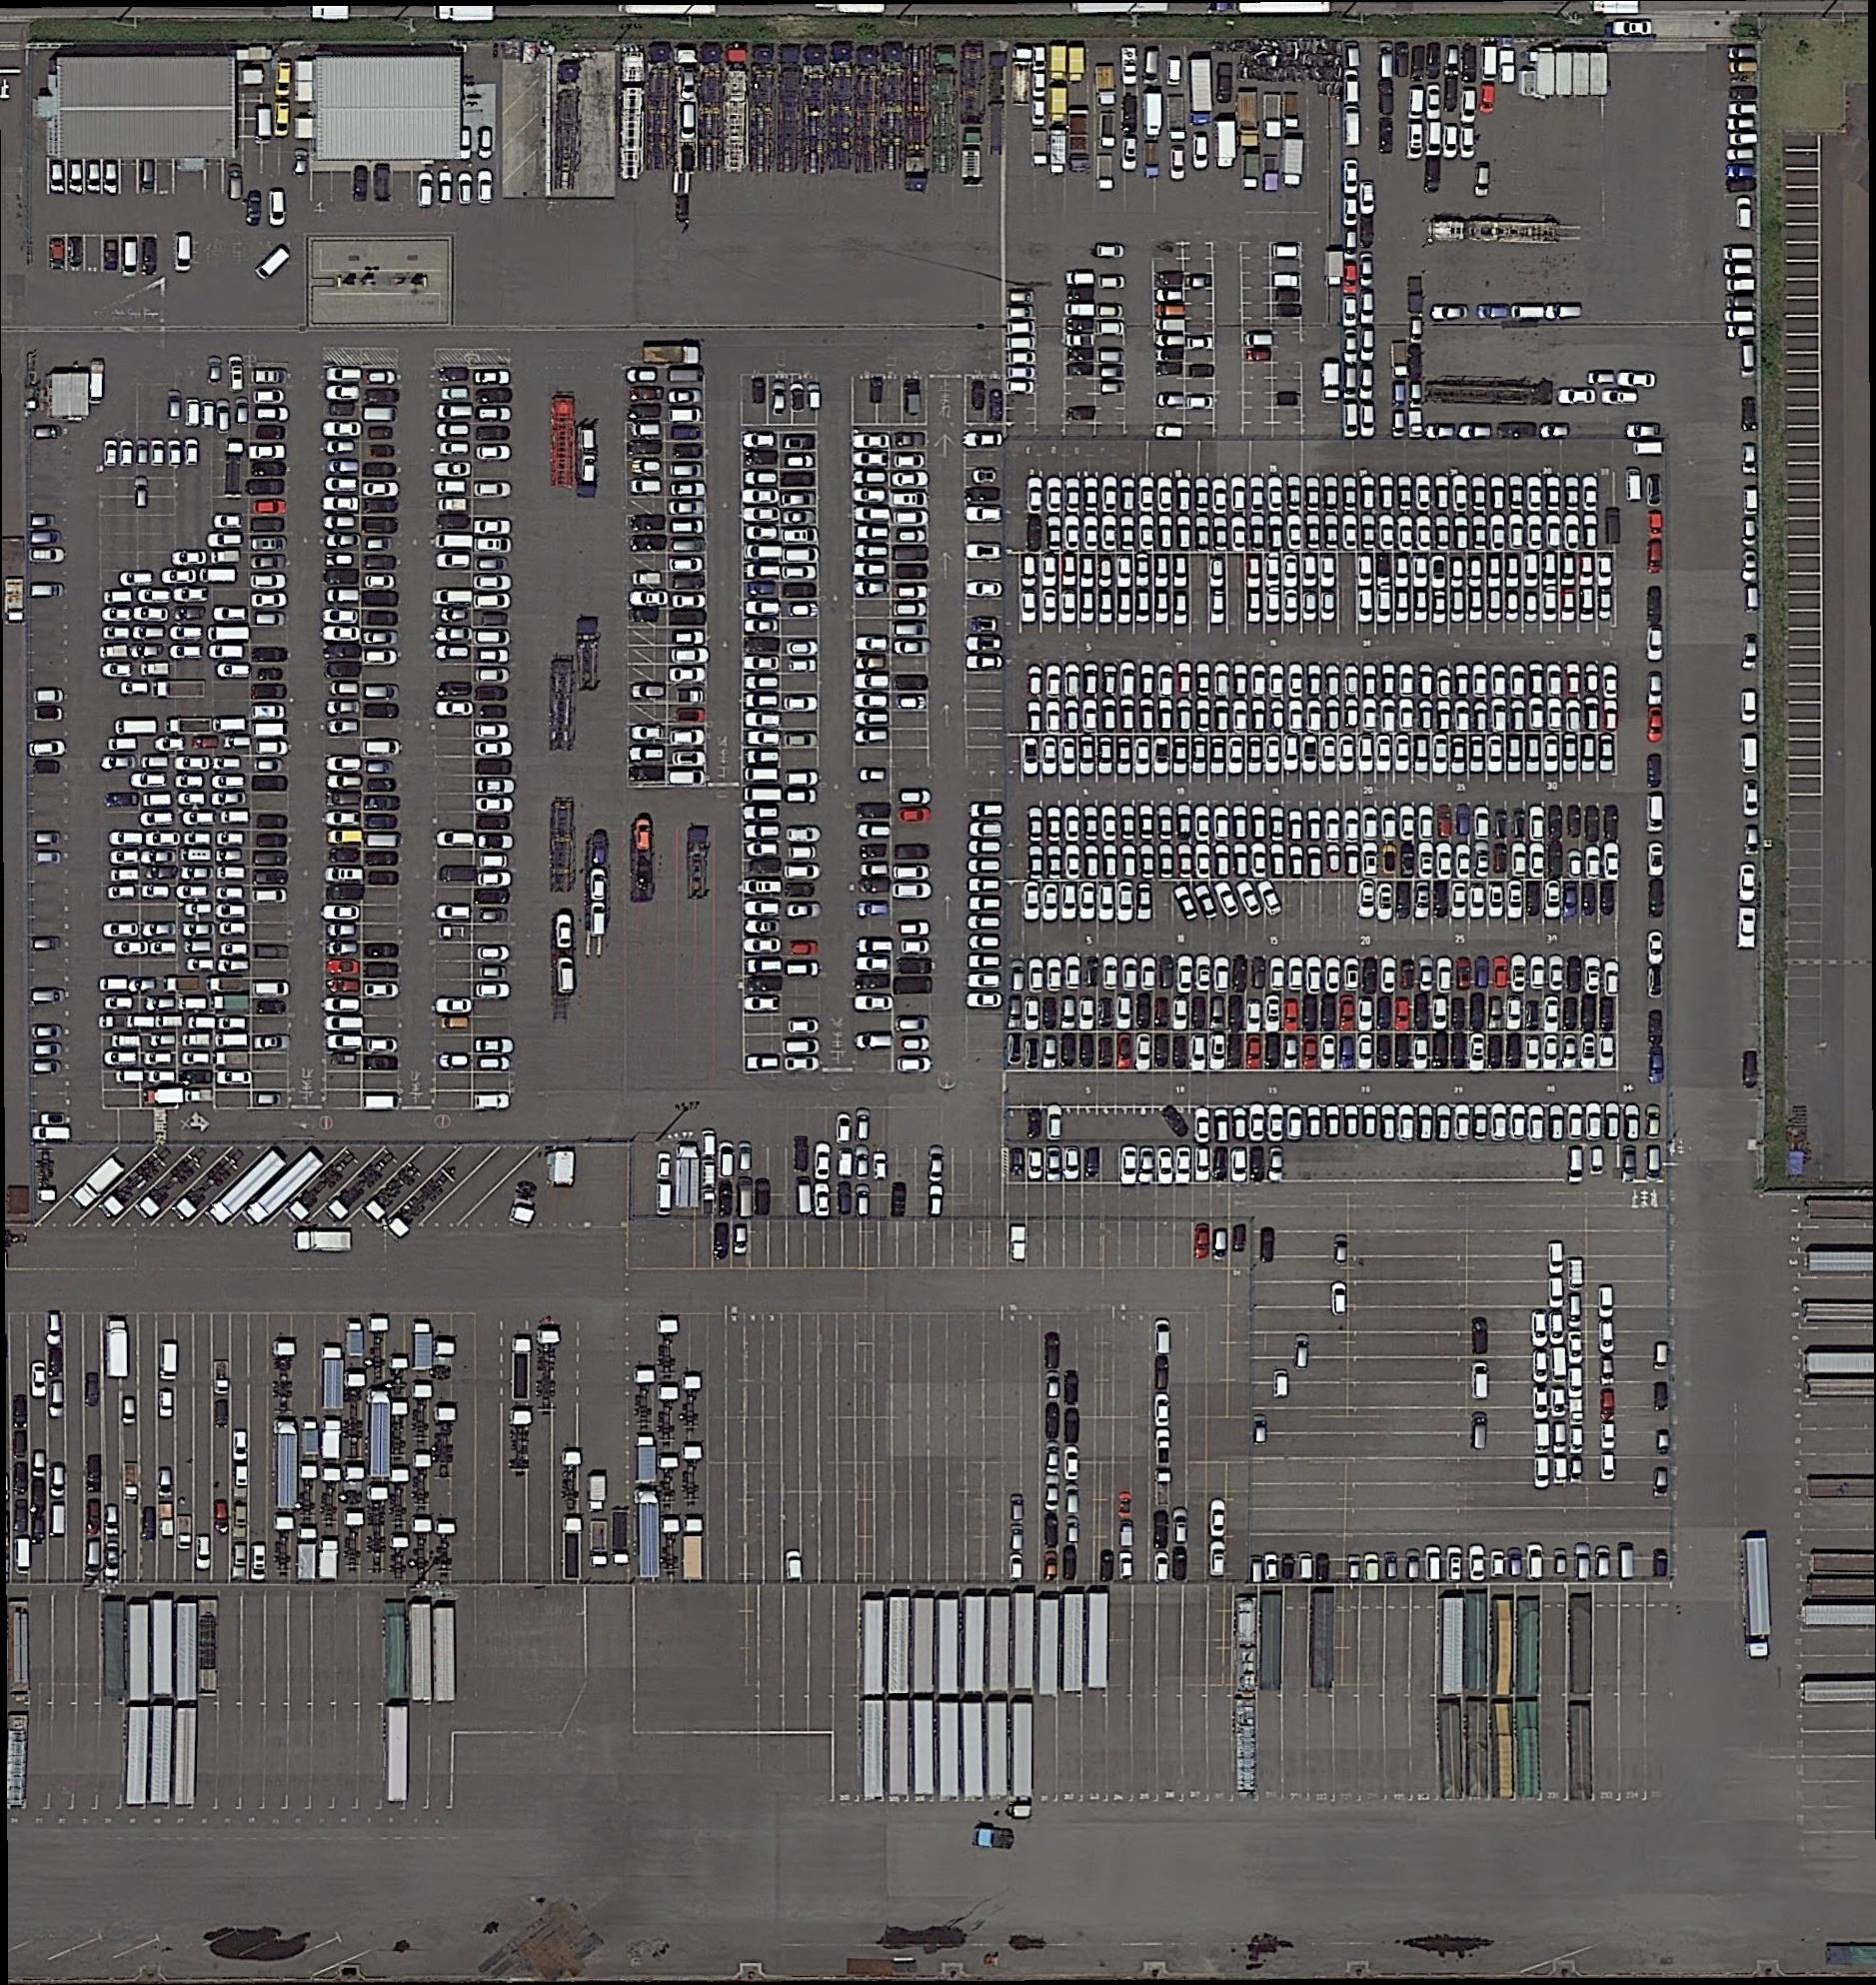large vehicle: (242, 1146, 328, 1229), (171, 1144, 256, 1227), (205, 1146, 289, 1227), (280, 1146, 365, 1227), (383, 1162, 462, 1245), (324, 1144, 404, 1227), (99, 1146, 176, 1223), (134, 1146, 208, 1225), (360, 1156, 430, 1229), (901, 46, 933, 197), (797, 42, 829, 175), (617, 42, 647, 182), (823, 42, 855, 173), (1430, 215, 1560, 247), (552, 62, 584, 192), (1740, 1537, 1772, 1662), (850, 42, 880, 175), (721, 42, 751, 175), (873, 44, 903, 175), (746, 44, 776, 175), (774, 42, 802, 175), (645, 42, 674, 175), (672, 42, 700, 173), (71, 1151, 127, 1213), (931, 48, 957, 178), (264, 1419, 300, 1513), (698, 42, 723, 175), (123, 1599, 153, 1706), (1566, 1592, 1596, 1698), (1566, 1698, 1596, 1802), (545, 797, 577, 894), (857, 1599, 887, 1699), (984, 1698, 1012, 1803), (547, 656, 577, 755), (1515, 1597, 1543, 1701), (1435, 1698, 1463, 1802), (1308, 1592, 1336, 1696), (381, 1705, 409, 1807), (933, 1698, 959, 1805), (123, 1706, 152, 1807), (99, 1599, 125, 1705), (631, 1486, 659, 1585), (1463, 1698, 1490, 1802), (1437, 1595, 1463, 1699), (910, 1595, 936, 1699), (986, 1595, 1012, 1699), (146, 1705, 173, 1809), (173, 1706, 199, 1810), (173, 1601, 199, 1705), (2, 1714, 30, 1810), (1488, 1699, 1515, 1802), (1515, 1699, 1541, 1802), (885, 1595, 912, 1698), (547, 395, 575, 490), (1488, 1599, 1515, 1699), (1231, 1698, 1257, 1798), (1463, 1592, 1488, 1699), (986, 51, 1010, 159), (409, 1601, 434, 1708), (432, 1599, 457, 1706), (862, 1698, 887, 1803), (910, 1698, 934, 1803), (1010, 1698, 1035, 1803), (383, 1601, 409, 1699), (7, 1599, 32, 1705), (363, 1481, 391, 1572), (264, 1338, 296, 1419), (936, 1595, 961, 1699), (961, 1595, 986, 1699), (959, 1699, 984, 1803), (1234, 1595, 1261, 1692), (1259, 1594, 1284, 1696), (152, 1597, 176, 1699), (365, 1389, 391, 1483), (887, 1698, 910, 1803), (536, 1324, 562, 1416), (342, 1372, 368, 1461), (1012, 1590, 1035, 1692), (197, 1599, 220, 1699), (1037, 1599, 1060, 1698), (1088, 1594, 1111, 1692), (575, 617, 603, 696), (961, 42, 987, 125), (1063, 1594, 1084, 1696), (506, 1178, 543, 1232), (1185, 56, 1213, 127), (319, 1343, 347, 1414), (684, 827, 711, 901), (430, 1400, 455, 1479), (272, 1513, 298, 1585), (316, 1461, 342, 1532), (406, 1516, 432, 1583), (681, 1514, 705, 1585), (368, 1315, 391, 1389), (430, 1516, 455, 1585), (508, 1410, 532, 1479), (339, 1509, 365, 1572), (679, 1442, 703, 1509), (656, 1315, 681, 1382), (104, 1319, 130, 1380), (291, 1230, 353, 1257), (559, 1514, 582, 1585), (510, 1334, 532, 1405), (1009, 48, 1035, 108), (557, 1446, 580, 1514), (411, 1382, 434, 1451), (656, 1382, 679, 1449), (409, 1449, 432, 1516), (1067, 109, 1090, 175), (681, 1370, 703, 1435), (633, 1363, 654, 1433), (293, 1527, 317, 1585), (659, 1511, 679, 1585), (656, 1451, 679, 1511), (298, 1461, 319, 1525), (1282, 138, 1306, 190), (633, 1431, 658, 1484), (390, 1401, 409, 1468), (390, 1467, 409, 1534), (961, 132, 984, 189), (409, 1319, 432, 1373), (1238, 92, 1259, 148), (319, 1416, 344, 1463), (340, 1461, 365, 1509), (1213, 122, 1236, 173), (386, 1534, 409, 1585), (610, 1509, 629, 1567), (316, 1541, 340, 1585), (587, 1520, 608, 1571), (1164, 95, 1187, 141), (432, 1340, 455, 1386), (1139, 93, 1162, 138), (1262, 93, 1284, 139), (1093, 65, 1116, 108), (1047, 85, 1070, 127), (298, 1417, 321, 1458), (157, 1340, 178, 1382), (1047, 130, 1067, 176), (1118, 93, 1139, 134), (1047, 44, 1068, 85), (344, 1319, 365, 1359), (1239, 153, 1261, 192), (585, 1474, 607, 1513), (391, 1356, 409, 1401), (1118, 46, 1137, 86), (1067, 44, 1086, 85), (212, 1357, 233, 1394), (1030, 129, 1049, 167), (1097, 152, 1114, 192), (1217, 62, 1234, 102), (1262, 155, 1280, 194), (1141, 143, 1160, 178), (1097, 113, 1116, 148), (155, 1389, 176, 1421), (1284, 92, 1299, 129)
small vehicle: (254, 243, 293, 284), (642, 346, 700, 367), (1215, 880, 1243, 920), (1236, 880, 1264, 920), (150, 680, 208, 700), (1172, 883, 1201, 922), (1194, 881, 1220, 922), (1257, 880, 1284, 918), (473, 1035, 517, 1058), (118, 234, 139, 280), (205, 624, 250, 645), (742, 973, 785, 996), (1132, 735, 1155, 777), (585, 903, 610, 941), (435, 587, 474, 612), (1737, 908, 1758, 952), (1617, 370, 1661, 391), (628, 742, 668, 765), (1737, 864, 1760, 904), (852, 504, 892, 527), (1596, 1033, 1620, 1070), (319, 624, 361, 645), (323, 1014, 365, 1035), (1342, 108, 1363, 150), (1555, 386, 1597, 407), (83, 1539, 104, 1581), (890, 880, 933, 901), (963, 430, 1005, 451), (1023, 880, 1044, 922), (1116, 881, 1137, 924), (1208, 735, 1229, 777), (668, 665, 707, 688), (435, 866, 474, 888), (434, 624, 473, 647), (437, 827, 476, 850), (629, 532, 668, 555), (629, 682, 668, 705), (1007, 1225, 1030, 1264), (966, 989, 1005, 1012), (903, 375, 926, 414), (1243, 1033, 1266, 1072), (88, 358, 106, 407), (164, 717, 213, 735), (474, 756, 515, 777), (434, 532, 474, 554), (628, 763, 668, 784), (473, 571, 513, 592), (473, 517, 513, 538), (323, 421, 363, 442), (361, 737, 402, 758), (26, 1359, 48, 1400), (1596, 1319, 1617, 1359), (46, 1461, 67, 1502), (85, 1500, 106, 1541), (175, 1513, 196, 1553), (892, 862, 933, 883), (892, 975, 933, 996), (742, 728, 783, 749), (742, 936, 783, 957), (742, 955, 783, 977), (779, 524, 820, 545), (1543, 880, 1564, 920), (1282, 1031, 1303, 1072), (1058, 737, 1079, 777), (1097, 883, 1118, 924), (1356, 880, 1377, 920), (1597, 733, 1619, 774), (585, 867, 608, 904), (324, 659, 361, 682), (361, 645, 398, 668), (1206, 996, 1229, 1033), (113, 719, 160, 737), (1582, 474, 1601, 517), (1208, 1539, 1227, 1581), (1583, 954, 1603, 996), (742, 541, 781, 562), (1617, 1541, 1636, 1583), (668, 534, 707, 555), (668, 515, 707, 536), (212, 1052, 254, 1072), (141, 1089, 183, 1109), (245, 478, 287, 497), (249, 497, 287, 518), (243, 189, 264, 227), (206, 643, 249, 663), (212, 661, 250, 682), (250, 680, 289, 702), (473, 1091, 511, 1112), (435, 402, 474, 423), (626, 591, 668, 610), (629, 723, 668, 744), (32, 1125, 71, 1146), (742, 561, 781, 582), (1403, 123, 1425, 162), (1423, 122, 1444, 160), (1192, 1146, 1213, 1185), (1497, 421, 1539, 441), (1643, 584, 1663, 626), (1529, 1310, 1550, 1349), (155, 1504, 176, 1543), (102, 1539, 122, 1581), (890, 617, 929, 638), (890, 469, 929, 490), (964, 578, 1003, 599), (781, 1035, 820, 1056), (781, 691, 820, 712), (744, 635, 783, 656), (742, 689, 781, 710), (742, 765, 781, 786), (742, 878, 781, 899), (742, 899, 781, 920), (781, 543, 820, 564), (853, 709, 892, 730), (853, 1031, 892, 1052), (853, 580, 892, 601), (779, 467, 818, 488), (853, 432, 892, 453), (1005, 1033, 1026, 1072), (1395, 1033, 1416, 1072), (1506, 878, 1525, 920), (1021, 735, 1040, 777), (1097, 735, 1116, 777), (1153, 735, 1172, 777), (1060, 881, 1079, 924), (1245, 735, 1266, 774), (1356, 735, 1377, 774), (1393, 735, 1414, 774), (1411, 735, 1432, 774), (1453, 469, 1470, 515), (1210, 844, 1232, 880), (1114, 996, 1137, 1031), (1418, 802, 1437, 843), (173, 234, 192, 275), (268, 189, 287, 229), (199, 568, 240, 587), (473, 980, 513, 1000), (473, 795, 513, 814), (474, 739, 515, 758), (324, 1035, 365, 1054), (360, 1091, 400, 1111), (1192, 1222, 1211, 1262), (1120, 1146, 1139, 1186), (1604, 506, 1624, 546), (1643, 624, 1663, 665), (1645, 793, 1664, 834), (229, 1500, 249, 1541), (890, 636, 931, 656), (783, 862, 823, 881), (742, 1054, 783, 1074), (742, 784, 783, 804), (742, 917, 783, 936), (779, 488, 820, 508), (853, 994, 894, 1014), (1412, 992, 1432, 1033), (1469, 991, 1488, 1031), (1190, 1031, 1210, 1072), (1264, 1031, 1284, 1072), (1040, 737, 1060, 777), (1077, 737, 1097, 777), (1171, 735, 1190, 776), (1077, 883, 1097, 924), (1395, 881, 1414, 922), (1580, 733, 1599, 774), (1264, 735, 1284, 776), (1321, 735, 1340, 776), (1338, 735, 1358, 776), (1432, 735, 1451, 776), (670, 726, 707, 747), (65, 234, 86, 271), (435, 421, 473, 442), (435, 645, 473, 666), (631, 513, 668, 534), (668, 460, 705, 481), (324, 384, 361, 405), (324, 367, 361, 388), (361, 700, 398, 721), (361, 460, 398, 481), (1421, 159, 1442, 196), (1458, 88, 1479, 125), (1061, 1146, 1083, 1183), (1738, 737, 1760, 774), (1469, 1319, 1490, 1356), (11, 1393, 32, 1430), (192, 1535, 213, 1572), (229, 1465, 250, 1502), (229, 1428, 250, 1465), (890, 451, 927, 472), (1067, 402, 1098, 427), (1299, 554, 1321, 591), (966, 541, 1003, 562), (785, 899, 822, 920), (781, 728, 818, 749), (855, 899, 892, 920), (1578, 996, 1599, 1033), (1021, 996, 1042, 1033), (1097, 996, 1118, 1033), (1506, 1033, 1527, 1070), (1412, 1033, 1433, 1070), (1430, 1033, 1451, 1070), (1523, 881, 1545, 918), (1356, 587, 1377, 624), (1559, 554, 1580, 591), (1245, 587, 1266, 624), (1282, 587, 1303, 624), (1486, 737, 1507, 774), (1523, 737, 1545, 774), (1176, 952, 1194, 996), (672, 441, 705, 464), (1019, 555, 1042, 589), (742, 580, 781, 599), (716, 1141, 735, 1179), (927, 1144, 947, 1183), (668, 769, 707, 788), (742, 450, 781, 469), (742, 506, 781, 525), (1213, 1107, 1232, 1146), (1063, 955, 1083, 994), (30, 705, 69, 725), (28, 546, 67, 566), (118, 571, 157, 591), (250, 647, 289, 666), (250, 774, 289, 793), (666, 497, 705, 517), (435, 998, 474, 1017), (435, 552, 474, 571), (473, 721, 511, 740), (102, 922, 141, 941), (473, 628, 511, 647), (473, 592, 511, 612), (474, 405, 513, 425), (474, 386, 513, 405), (323, 587, 361, 606), (323, 478, 361, 497), (323, 643, 361, 663), (324, 772, 363, 792), (102, 1051, 141, 1070), (324, 790, 363, 809), (324, 811, 363, 830), (361, 961, 400, 980), (742, 599, 781, 619), (1342, 69, 1361, 108), (1211, 1146, 1231, 1185), (1172, 1146, 1192, 1185), (1742, 779, 1761, 818), (742, 617, 781, 636), (1430, 303, 1469, 323), (1358, 402, 1377, 441), (1469, 1414, 1488, 1453), (85, 1456, 104, 1495), (894, 841, 933, 860), (890, 430, 929, 450), (890, 582, 929, 601), (890, 561, 929, 580), (966, 506, 1005, 525), (966, 654, 1005, 673), (744, 996, 783, 1015), (742, 806, 781, 825), (779, 506, 818, 525), (853, 730, 892, 749), (855, 936, 894, 955), (852, 469, 890, 488), (1135, 994, 1155, 1033), (1208, 1033, 1227, 1072), (1301, 1033, 1321, 1072), (1321, 1033, 1340, 1072), (1486, 881, 1506, 920), (1190, 737, 1210, 776), (1412, 881, 1432, 920), (1560, 735, 1580, 774), (1543, 735, 1562, 774), (1227, 737, 1247, 776), (1284, 735, 1303, 774), (1301, 735, 1321, 774), (1375, 735, 1395, 774), (1449, 735, 1469, 774), (737, 1178, 755, 1220), (672, 571, 707, 592), (1210, 1497, 1227, 1539), (1527, 1104, 1545, 1146), (1548, 1102, 1566, 1144), (1398, 1102, 1416, 1144), (227, 353, 245, 395), (138, 160, 159, 196), (372, 167, 393, 203), (254, 1033, 289, 1054), (474, 777, 517, 795), (432, 462, 474, 480), (628, 476, 663, 497), (319, 497, 361, 515), (363, 682, 398, 703), (323, 906, 365, 924), (1229, 1148, 1250, 1183), (1403, 88, 1425, 123), (1026, 1148, 1047, 1183), (1139, 1146, 1157, 1188), (1643, 672, 1664, 707), (1647, 878, 1664, 920), (12, 1535, 30, 1578), (11, 1428, 32, 1463), (1040, 591, 1061, 626), (1019, 591, 1040, 626), (968, 950, 1003, 971), (896, 917, 931, 938), (785, 823, 820, 844), (1338, 996, 1359, 1031), (1356, 998, 1377, 1033), (1597, 998, 1619, 1033), (1282, 998, 1303, 1033), (1597, 883, 1619, 918), (1245, 998, 1266, 1033), (1596, 554, 1617, 589), (1208, 591, 1229, 626), (1042, 881, 1060, 924), (1377, 880, 1395, 922), (48, 159, 69, 194), (742, 432, 779, 451), (742, 469, 779, 488), (1231, 804, 1250, 841), (180, 811, 217, 830), (273, 102, 293, 139), (250, 534, 287, 554), (249, 554, 286, 573), (250, 571, 287, 591), (250, 608, 287, 628), (416, 171, 435, 208), (130, 642, 167, 661), (252, 978, 289, 998), (250, 703, 287, 723), (252, 721, 289, 740), (252, 867, 289, 887), (473, 887, 510, 906), (478, 832, 515, 851), (435, 904, 473, 924), (437, 680, 474, 700), (474, 480, 511, 499), (474, 534, 511, 554), (474, 442, 511, 462), (628, 404, 665, 423), (474, 423, 511, 442), (474, 368, 511, 388), (629, 384, 666, 404), (324, 458, 361, 478), (361, 628, 398, 647), (361, 517, 398, 536), (328, 885, 365, 904), (363, 1035, 400, 1054), (361, 980, 398, 1000), (1266, 1146, 1285, 1183), (1440, 123, 1460, 160), (1423, 85, 1442, 122), (1292, 1334, 1312, 1372), (1329, 1282, 1349, 1319), (1155, 1148, 1174, 1185), (1044, 1146, 1063, 1183), (1724, 178, 1761, 197), (1470, 1363, 1490, 1400), (1647, 1047, 1666, 1084), (1530, 1384, 1550, 1421), (1530, 1347, 1550, 1384), (83, 1372, 102, 1409), (11, 1461, 30, 1498), (229, 1544, 249, 1581), (102, 1502, 122, 1539), (890, 508, 927, 527), (890, 490, 927, 509), (1210, 554, 1229, 591), (1264, 554, 1284, 591), (1321, 554, 1340, 591), (968, 820, 1005, 839), (968, 839, 1005, 859), (966, 913, 1003, 933), (966, 970, 1003, 989), (783, 957, 820, 977), (855, 802, 892, 822), (855, 954, 892, 973), (894, 1015, 931, 1035), (853, 673, 890, 693), (855, 635, 892, 654), (853, 543, 890, 562), (853, 561, 890, 580), (1432, 996, 1451, 1033), (1506, 996, 1525, 1033), (1543, 996, 1562, 1033), (1077, 1033, 1097, 1070), (1077, 996, 1097, 1033), (1562, 883, 1582, 920), (1580, 883, 1599, 920), (1060, 996, 1079, 1033), (1171, 996, 1190, 1033), (1541, 1033, 1560, 1070), (1560, 1033, 1580, 1070), (1486, 1033, 1506, 1070), (1116, 1033, 1135, 1070), (1153, 1033, 1172, 1070), (1469, 1033, 1488, 1070), (1358, 1033, 1377, 1070), (1451, 1033, 1470, 1070), (1395, 587, 1414, 624), (1486, 554, 1506, 591), (1432, 883, 1451, 920), (1504, 735, 1523, 772), (1269, 661, 1287, 702), (815, 1141, 832, 1181), (1026, 515, 1044, 555), (1194, 474, 1211, 515), (1044, 1331, 1061, 1372), (1511, 954, 1529, 994), (1527, 1543, 1545, 1583), (1305, 957, 1322, 998), (1324, 957, 1342, 998), (1603, 843, 1620, 883), (1176, 841, 1194, 881), (1583, 804, 1601, 844), (1195, 954, 1213, 994), (1194, 1105, 1211, 1146), (1287, 1104, 1305, 1144), (206, 977, 247, 994), (26, 740, 67, 758), (99, 756, 139, 774), (129, 772, 169, 790), (249, 368, 289, 386), (141, 236, 159, 277), (473, 869, 513, 887), (28, 1024, 69, 1042), (324, 830, 365, 848), (360, 497, 400, 515), (1567, 1144, 1585, 1185), (249, 1543, 266, 1583), (1192, 132, 1210, 173), (1116, 735, 1134, 776), (256, 811, 289, 832), (435, 513, 469, 534), (633, 421, 666, 442), (1738, 398, 1760, 432), (899, 784, 933, 806), (1411, 555, 1432, 589), (1467, 591, 1488, 624), (1596, 589, 1617, 622), (1215, 952, 1231, 996), (1416, 515, 1433, 554), (1582, 515, 1599, 554), (1490, 663, 1509, 698), (1379, 696, 1396, 735), (1582, 698, 1601, 733), (1083, 804, 1100, 843), (1603, 661, 1620, 700), (890, 1181, 908, 1220), (1026, 476, 1044, 515), (668, 610, 707, 628), (672, 628, 707, 647), (555, 915, 575, 950), (555, 959, 575, 994), (712, 1222, 730, 1260), (1046, 476, 1063, 515), (1046, 515, 1063, 554), (1100, 515, 1118, 554), (1137, 515, 1155, 554), (1046, 1401, 1063, 1440), (1566, 1102, 1583, 1141), (1155, 1430, 1172, 1468), (1176, 802, 1194, 841), (1603, 959, 1620, 998), (742, 525, 781, 543), (1139, 843, 1157, 881), (1250, 802, 1268, 841), (1437, 802, 1455, 841), (210, 792, 249, 809), (28, 689, 67, 707), (139, 850, 178, 867), (164, 977, 203, 994), (226, 164, 243, 203), (102, 233, 120, 271), (351, 166, 368, 204), (206, 532, 245, 550), (171, 587, 210, 605), (212, 606, 250, 624), (250, 740, 289, 758), (252, 848, 287, 867), (437, 1054, 473, 1074), (476, 1054, 511, 1074), (476, 943, 511, 963), (435, 700, 474, 717), (670, 480, 705, 499), (473, 666, 511, 684), (473, 554, 511, 571), (326, 531, 361, 550), (323, 608, 361, 626), (324, 719, 363, 737), (324, 756, 363, 774), (363, 793, 402, 811), (360, 480, 398, 497), (326, 959, 361, 978), (323, 998, 361, 1015), (361, 1054, 400, 1072), (361, 943, 400, 961), (1478, 81, 1497, 116), (1379, 41, 1396, 79), (1210, 1227, 1229, 1262), (1007, 1148, 1026, 1183), (1083, 1148, 1102, 1183), (1740, 689, 1760, 725), (1601, 390, 1640, 407), (1624, 421, 1663, 439), (1358, 289, 1377, 324), (1647, 1008, 1664, 1047), (1620, 1144, 1638, 1183), (46, 1312, 65, 1347), (139, 1505, 159, 1541), (1120, 138, 1139, 173), (896, 806, 931, 825), (890, 599, 929, 617), (892, 543, 931, 561), (1172, 555, 1192, 591), (1060, 591, 1079, 626), (1135, 554, 1155, 589), (1153, 555, 1172, 591), (1245, 555, 1264, 591), (1282, 554, 1301, 589), (1356, 554, 1375, 589), (1375, 555, 1395, 591), (966, 636, 1005, 654), (968, 933, 1003, 952), (785, 769, 820, 788), (783, 580, 818, 599), (742, 673, 781, 691), (744, 712, 783, 730), (742, 749, 781, 767), (742, 823, 781, 841), (742, 843, 781, 860), (855, 822, 890, 841), (892, 1054, 931, 1072), (852, 488, 890, 506), (853, 525, 892, 543), (1449, 555, 1469, 591), (1375, 998, 1395, 1033), (1395, 998, 1414, 1033), (1301, 998, 1321, 1033), (1321, 998, 1340, 1033), (1264, 994, 1282, 1033), (1060, 1033, 1077, 1072), (1172, 1033, 1190, 1072), (1227, 1033, 1245, 1072), (1340, 1033, 1358, 1072), (1377, 1033, 1395, 1072), (1560, 589, 1580, 624), (1412, 589, 1432, 624), (1432, 589, 1451, 624), (1449, 589, 1469, 624), (1504, 591, 1523, 626), (1523, 591, 1543, 626), (1578, 587, 1597, 622), (1375, 589, 1395, 624), (1097, 591, 1116, 626), (1079, 589, 1098, 624), (1137, 883, 1155, 922), (1451, 883, 1469, 922), (1469, 735, 1486, 774), (1083, 513, 1098, 555), (1268, 472, 1284, 515), (1153, 1509, 1169, 1551), (1492, 1102, 1507, 1144), (1437, 1102, 1453, 1144), (1268, 1102, 1284, 1144), (208, 996, 250, 1012), (99, 642, 130, 663), (1738, 550, 1760, 582), (155, 1467, 176, 1498), (786, 599, 818, 621), (899, 1033, 931, 1054), (48, 1504, 65, 1541), (1158, 663, 1176, 700), (1250, 663, 1268, 700), (1418, 661, 1435, 698), (1083, 659, 1100, 696), (1564, 517, 1582, 554), (1527, 661, 1545, 698), (1400, 698, 1418, 735), (1509, 696, 1527, 733), (1047, 806, 1065, 843), (1546, 661, 1564, 698), (1306, 698, 1324, 735), (1232, 698, 1250, 735), (815, 1183, 832, 1220), (670, 592, 707, 610), (672, 647, 709, 665), (742, 488, 779, 506), (1446, 1546, 1463, 1583), (1158, 844, 1176, 881), (1213, 804, 1231, 841), (1529, 806, 1546, 843), (1361, 843, 1379, 880), (1529, 843, 1546, 880), (668, 554, 705, 571), (145, 830, 182, 848), (139, 811, 176, 829), (215, 1070, 252, 1088), (249, 444, 286, 462), (254, 405, 291, 423), (249, 462, 286, 480), (249, 517, 286, 534), (250, 591, 287, 608), (85, 159, 102, 196), (167, 626, 205, 643), (132, 606, 169, 624), (130, 626, 167, 643), (252, 887, 289, 904), (668, 405, 705, 423), (363, 390, 400, 407), (324, 700, 361, 717), (111, 941, 148, 959), (139, 922, 176, 940), (361, 608, 398, 626), (361, 591, 398, 608), (365, 832, 402, 850), (324, 941, 361, 959), (324, 978, 361, 996), (1248, 1146, 1266, 1183), (1740, 633, 1758, 670), (1340, 159, 1358, 196), (1342, 404, 1359, 441), (1358, 252, 1375, 289), (1567, 1294, 1585, 1331), (1567, 1255, 1585, 1292), (1647, 705, 1664, 742), (1647, 841, 1664, 878), (1647, 929, 1664, 966), (48, 1382, 65, 1419), (30, 1479, 48, 1516), (212, 1498, 229, 1535), (11, 1498, 28, 1535), (968, 857, 1005, 874), (896, 957, 933, 975), (781, 564, 818, 582), (783, 1056, 820, 1074), (744, 656, 781, 673), (853, 693, 890, 710), (855, 973, 892, 991), (853, 451, 890, 469), (1488, 996, 1506, 1033), (1005, 996, 1023, 1033), (1042, 996, 1060, 1033), (1155, 996, 1172, 1033), (1229, 996, 1247, 1033), (1098, 1035, 1116, 1072), (1580, 1033, 1597, 1070), (1523, 1033, 1541, 1070), (1137, 1033, 1155, 1070), (1469, 883, 1486, 920), (1506, 554, 1523, 591), (1044, 702, 1063, 735), (926, 1185, 945, 1218), (215, 1031, 249, 1051), (273, 62, 293, 95), (254, 943, 287, 963), (256, 830, 289, 850), (435, 497, 469, 517), (672, 423, 705, 442), (1472, 164, 1492, 197), (1724, 293, 1758, 312), (1738, 346, 1758, 379), (1460, 423, 1493, 442), (1596, 1285, 1615, 1319), (28, 1514, 48, 1548), (896, 673, 929, 693), (1430, 555, 1449, 589), (1042, 555, 1061, 589), (749, 857, 783, 876), (857, 876, 890, 896), (1449, 998, 1469, 1031), (1023, 1038, 1042, 1072), (1467, 555, 1486, 589), (1486, 591, 1506, 624), (1541, 591, 1560, 624), (1578, 554, 1597, 587), (1321, 591, 1340, 624), (1172, 592, 1192, 626), (1264, 589, 1284, 622), (1361, 513, 1377, 554), (1509, 513, 1525, 554), (1527, 513, 1543, 554), (1287, 513, 1303, 554), (1102, 804, 1118, 844), (756, 1178, 772, 1218), (855, 1142, 871, 1183), (1509, 472, 1525, 513), (1231, 515, 1247, 555), (1231, 474, 1247, 515), (1102, 474, 1118, 515), (1213, 476, 1229, 517), (1248, 474, 1264, 515), (1324, 474, 1340, 515), (1359, 472, 1375, 513), (1139, 802, 1155, 843), (1587, 1102, 1603, 1142), (1155, 1315, 1171, 1356), (1574, 1543, 1590, 1583), (1455, 1104, 1470, 1144), (1418, 1104, 1433, 1144), (1250, 1104, 1266, 1144), (1381, 1104, 1396, 1144), (1402, 839, 1418, 880), (1418, 841, 1433, 881), (626, 441, 666, 457), (963, 487, 1003, 502), (1509, 663, 1527, 698), (1529, 698, 1546, 733), (1564, 698, 1582, 733), (836, 1111, 853, 1146), (672, 751, 707, 769), (1456, 955, 1474, 991), (1594, 1544, 1612, 1580), (1583, 844, 1601, 880), (1250, 844, 1268, 880), (1268, 844, 1285, 880), (1287, 844, 1305, 880), (1324, 1104, 1342, 1139), (108, 830, 143, 848), (104, 792, 139, 809), (175, 756, 210, 774), (176, 885, 212, 903), (256, 109, 273, 145), (49, 234, 67, 270), (171, 550, 206, 568), (100, 663, 136, 680), (474, 686, 510, 703), (668, 388, 703, 405), (474, 647, 510, 665), (624, 368, 659, 386), (363, 367, 398, 384), (323, 515, 358, 532), (143, 996, 178, 1014), (30, 989, 65, 1007), (328, 848, 363, 866), (361, 554, 397, 571), (365, 813, 400, 830), (1460, 123, 1478, 159), (1610, 21, 1654, 35), (1631, 441, 1666, 458), (1359, 215, 1377, 250), (1532, 1456, 1550, 1491), (1550, 1386, 1567, 1421), (1645, 753, 1663, 788), (1647, 964, 1664, 1000), (1548, 1241, 1566, 1276), (1395, 555, 1412, 591), (968, 896, 1003, 913), (783, 881, 818, 899), (1562, 998, 1580, 1033), (1190, 996, 1208, 1031), (1169, 146, 1187, 182), (1523, 555, 1541, 591), (1543, 554, 1560, 589), (1303, 589, 1321, 624), (1324, 513, 1340, 552), (1398, 515, 1414, 554), (1435, 513, 1451, 552), (1545, 515, 1560, 554), (1065, 661, 1081, 700), (1065, 806, 1081, 844), (675, 705, 707, 725), (1063, 515, 1079, 554), (1490, 474, 1506, 513), (1527, 474, 1543, 513), (1120, 515, 1135, 554), (1157, 474, 1172, 513), (1287, 474, 1303, 513), (1305, 474, 1321, 513), (1121, 804, 1137, 843), (1157, 804, 1172, 843), (1172, 1505, 1188, 1544), (1172, 1544, 1188, 1583), (1511, 1104, 1527, 1142), (1604, 1102, 1620, 1141), (1065, 1407, 1081, 1446), (1437, 955, 1453, 994), (1530, 954, 1546, 992), (1344, 957, 1359, 996), (1604, 804, 1620, 843), (1548, 841, 1564, 880), (1344, 807, 1359, 846), (1400, 804, 1416, 843), (1474, 804, 1490, 843), (1269, 955, 1285, 994), (1047, 1104, 1063, 1142), (1141, 954, 1157, 992), (1437, 841, 1453, 880), (1102, 954, 1118, 992), (28, 584, 67, 599), (249, 390, 287, 405), (160, 569, 199, 585), (324, 869, 363, 885), (1379, 116, 1395, 155), (1650, 1467, 1670, 1498), (1738, 442, 1758, 474), (1552, 1345, 1567, 1384), (1546, 1276, 1566, 1308), (28, 1447, 48, 1479), (46, 1347, 65, 1379), (1077, 557, 1097, 589), (1097, 555, 1116, 587), (968, 802, 1007, 818), (966, 876, 1005, 892), (786, 636, 818, 656), (1116, 592, 1135, 624), (1134, 592, 1153, 624), (1153, 592, 1172, 624), (1234, 954, 1248, 996), (212, 1400, 233, 1428), (1583, 661, 1601, 695), (1250, 700, 1268, 733), (836, 1181, 853, 1215), (1083, 846, 1100, 880), (1511, 844, 1529, 878), (215, 904, 249, 922), (28, 529, 62, 546), (252, 756, 286, 774), (435, 480, 469, 497), (439, 608, 473, 626), (323, 439, 356, 457), (328, 680, 361, 698), (28, 936, 62, 954), (367, 869, 400, 887), (324, 924, 358, 941), (1737, 196, 1754, 229), (1647, 539, 1664, 573), (1342, 330, 1359, 363), (1548, 1313, 1566, 1347), (120, 1394, 138, 1428), (1063, 317, 1097, 335), (896, 693, 929, 710), (1061, 555, 1079, 589), (1116, 555, 1134, 589), (770, 383, 788, 416), (1525, 1000, 1543, 1033), (1153, 317, 1187, 335), (1289, 663, 1305, 700), (1120, 661, 1135, 698), (1139, 661, 1155, 698), (1379, 515, 1395, 552), (1046, 663, 1061, 700), (1492, 698, 1507, 735), (1603, 698, 1619, 735), (1028, 807, 1044, 844), (1326, 698, 1342, 735), (1566, 663, 1582, 700), (1305, 515, 1321, 552), (1250, 517, 1266, 554), (1065, 478, 1081, 515), (1398, 474, 1414, 511), (1044, 1513, 1060, 1550), (1063, 1446, 1079, 1483), (1155, 1393, 1171, 1430), (1419, 957, 1435, 994), (1381, 957, 1396, 994), (1425, 1546, 1440, 1583), (1469, 1546, 1485, 1583), (1566, 804, 1582, 841), (1194, 807, 1210, 844), (1269, 807, 1285, 844), (1306, 1104, 1322, 1141), (1123, 955, 1139, 992), (1455, 843, 1470, 880), (1474, 843, 1490, 880), (1028, 957, 1044, 994), (210, 774, 247, 790), (138, 663, 175, 679), (474, 814, 511, 830), (668, 368, 705, 384), (361, 407, 398, 423), (324, 569, 361, 585), (363, 851, 400, 867), (1395, 42, 1411, 79), (1379, 79, 1395, 116), (1626, 467, 1641, 504), (125, 1014, 155, 1033), (99, 1014, 129, 1033), (1425, 423, 1455, 442), (1155, 423, 1185, 442), (1566, 474, 1580, 515), (1158, 515, 1172, 555), (1418, 474, 1432, 515), (1381, 474, 1395, 515), (1626, 1104, 1640, 1144), (1567, 955, 1582, 996), (1382, 804, 1396, 844), (1215, 661, 1231, 696), (1326, 663, 1342, 698), (1363, 663, 1379, 698), (1400, 663, 1416, 698), (1455, 663, 1470, 698), (1028, 663, 1044, 698), (1437, 700, 1453, 735), (1548, 698, 1564, 733), (1083, 698, 1098, 733), (1139, 698, 1155, 733), (1195, 698, 1211, 733), (1287, 700, 1303, 735), (1268, 517, 1284, 552), (793, 1137, 809, 1172), (855, 1183, 871, 1218), (656, 1183, 672, 1218), (635, 820, 652, 851), (1194, 517, 1210, 552), (1044, 1477, 1060, 1513), (1046, 1440, 1061, 1476), (1155, 1356, 1171, 1391), (1492, 955, 1507, 991), (1405, 1548, 1421, 1583), (1065, 844, 1081, 880), (1121, 844, 1137, 880), (1197, 844, 1213, 880), (1548, 806, 1564, 841), (1306, 809, 1322, 844), (1326, 809, 1342, 844), (1363, 807, 1379, 843), (1511, 807, 1529, 839), (1160, 954, 1176, 989), (1047, 957, 1063, 992), (1084, 955, 1100, 991), (155, 737, 187, 755), (217, 400, 233, 435), (30, 423, 62, 441), (178, 1072, 213, 1088), (100, 606, 132, 624), (480, 125, 495, 160), (100, 626, 132, 643), (102, 162, 120, 194), (171, 606, 206, 622), (167, 645, 203, 661), (257, 1000, 289, 1017), (213, 717, 249, 733), (631, 457, 663, 474), (99, 977, 130, 994), (1259, 1229, 1275, 1264), (1744, 825, 1761, 857), (1728, 100, 1760, 118), (1728, 130, 1760, 148), (1723, 310, 1758, 326), (1478, 303, 1509, 321), (1645, 476, 1663, 508), (1342, 294, 1358, 330), (1359, 180, 1375, 215), (1344, 365, 1359, 400), (1358, 367, 1373, 402), (1645, 1146, 1661, 1181), (1269, 271, 1301, 289), (1065, 286, 1097, 303), (989, 390, 1005, 425), (788, 1017, 820, 1035), (859, 860, 890, 878), (855, 654, 887, 672), (785, 451, 816, 469), (1153, 271, 1185, 289), (1344, 515, 1358, 554), (1492, 515, 1506, 554), (719, 1181, 733, 1220), (797, 1176, 811, 1215), (1472, 474, 1486, 513), (1084, 476, 1098, 515), (1121, 474, 1135, 513), (1141, 474, 1155, 513), (1344, 474, 1358, 513), (1065, 1368, 1079, 1407), (1365, 957, 1379, 996), (289, 150, 309, 178), (129, 977, 157, 996), (1097, 317, 1125, 337), (790, 938, 818, 957), (1437, 665, 1453, 698), (1102, 663, 1118, 696), (1455, 700, 1470, 733), (1065, 700, 1081, 733), (1269, 700, 1285, 733), (855, 1107, 871, 1141), (737, 1141, 753, 1174), (1065, 1484, 1081, 1518), (1028, 846, 1044, 880), (1234, 844, 1250, 878), (1252, 955, 1268, 989), (1344, 844, 1359, 878), (1381, 843, 1396, 876), (1010, 959, 1026, 992), (139, 885, 173, 901), (69, 159, 85, 192), (437, 171, 453, 204), (212, 517, 245, 532), (102, 591, 136, 606), (437, 368, 471, 384), (628, 608, 661, 624), (1724, 162, 1758, 178), (1724, 324, 1758, 340), (1552, 1423, 1567, 1456), (1567, 1333, 1583, 1366), (1534, 1423, 1550, 1456), (1063, 333, 1097, 349), (896, 527, 929, 543), (783, 434, 816, 450), (1044, 1037, 1060, 1070), (677, 688, 707, 705), (589, 837, 607, 867), (1363, 1553, 1381, 1583), (1326, 844, 1344, 874), (139, 755, 169, 772), (109, 848, 139, 866), (256, 425, 286, 442), (111, 1033, 141, 1051), (148, 941, 178, 959), (367, 776, 397, 793), (365, 573, 395, 591), (1345, 41, 1363, 71), (1740, 518, 1758, 548), (1389, 409, 1407, 439), (1407, 409, 1425, 439), (1647, 509, 1664, 539), (1065, 301, 1095, 319), (1065, 361, 1095, 379), (1095, 301, 1125, 319), (1005, 319, 1035, 337), (1005, 289, 1035, 307), (970, 615, 1000, 633), (901, 938, 931, 955), (788, 656, 818, 673), (859, 843, 889, 860), (867, 375, 885, 405), (1185, 361, 1215, 379), (1197, 661, 1211, 698), (1474, 663, 1488, 700), (1472, 515, 1486, 552), (1455, 517, 1469, 554), (1363, 698, 1377, 735), (1178, 696, 1192, 733), (1215, 698, 1229, 735), (1178, 515, 1192, 552), (1213, 517, 1227, 554), (1178, 476, 1192, 513), (1289, 957, 1303, 994), (1232, 1105, 1247, 1142), (1359, 326, 1373, 363), (1120, 700, 1135, 732), (733, 1225, 749, 1257), (700, 1130, 716, 1162), (1400, 959, 1416, 991), (1654, 1548, 1670, 1580), (1493, 809, 1509, 841), (1344, 1105, 1359, 1137), (215, 832, 247, 848), (212, 756, 243, 772), (234, 397, 250, 428), (206, 356, 222, 388), (141, 793, 173, 809), (106, 885, 138, 901), (109, 867, 141, 883), (145, 1070, 176, 1086), (182, 1033, 213, 1049), (176, 996, 208, 1012), (210, 550, 242, 566), (118, 682, 150, 698), (478, 908, 510, 924), (631, 571, 663, 587), (32, 1042, 63, 1058), (1333, 1234, 1349, 1266), (1723, 247, 1754, 263), (1723, 263, 1754, 279), (1342, 197, 1358, 229), (1567, 1368, 1583, 1400), (1601, 1356, 1617, 1387), (1601, 1389, 1617, 1421), (1269, 243, 1301, 259), (1005, 335, 1037, 351), (1005, 365, 1037, 381), (1005, 379, 1037, 395), (1065, 270, 1097, 286), (1065, 347, 1097, 363), (785, 788, 816, 804), (790, 383, 806, 414), (1153, 303, 1185, 319), (1155, 349, 1187, 365), (1155, 361, 1187, 377), (1548, 474, 1560, 515), (1474, 1102, 1486, 1142), (1178, 661, 1192, 696), (1234, 663, 1248, 698), (1382, 663, 1396, 698), (1028, 700, 1042, 735), (1160, 698, 1174, 733), (654, 1155, 672, 1183), (1063, 1546, 1077, 1581), (1647, 1105, 1661, 1141), (1550, 955, 1564, 991), (1049, 844, 1063, 880), (1102, 844, 1116, 880), (1289, 807, 1303, 843), (1456, 802, 1470, 837), (1363, 1104, 1377, 1139), (136, 474, 150, 509), (178, 867, 213, 881), (478, 169, 492, 204), (365, 536, 393, 554), (1724, 118, 1760, 132), (1724, 279, 1760, 293), (1742, 488, 1760, 517), (1599, 1454, 1617, 1483), (1589, 1148, 1606, 1176), (970, 379, 984, 414), (859, 767, 887, 784), (749, 377, 767, 405), (1435, 472, 1448, 511), (439, 924, 464, 943), (1507, 1548, 1523, 1578), (108, 737, 138, 753), (220, 811, 250, 827), (32, 760, 62, 776), (219, 1019, 249, 1035), (115, 1070, 145, 1086), (182, 1051, 212, 1067), (185, 959, 215, 975), (175, 774, 205, 790), (439, 386, 469, 402), (324, 554, 354, 569), (153, 1015, 183, 1031), (39, 1111, 69, 1126), (1252, 1416, 1268, 1446), (1234, 1225, 1250, 1255), (1744, 585, 1760, 615), (1730, 60, 1760, 76), (1541, 423, 1571, 439), (1243, 347, 1273, 363), (1552, 1456, 1567, 1486), (1601, 1423, 1617, 1453), (1005, 305, 1035, 321), (1095, 243, 1125, 259), (1097, 275, 1127, 291), (1095, 349, 1125, 365), (788, 844, 818, 860), (1153, 289, 1183, 305), (1155, 393, 1185, 409), (1185, 335, 1215, 351), (1308, 663, 1322, 696), (1345, 663, 1359, 696), (1419, 700, 1433, 733), (1476, 700, 1490, 733), (1102, 698, 1116, 732), (839, 1148, 853, 1181), (1044, 1550, 1058, 1583), (1100, 1550, 1114, 1583), (1155, 1551, 1169, 1585), (1476, 957, 1490, 991), (1306, 848, 1321, 881), (145, 866, 178, 880), (182, 924, 215, 938), (178, 848, 212, 862), (167, 390, 182, 423), (439, 442, 473, 457), (1724, 148, 1758, 162), (1003, 351, 1037, 365), (1153, 335, 1187, 349), (1652, 1345, 1670, 1372), (973, 467, 1000, 485), (1120, 1490, 1134, 1521), (1120, 1551, 1134, 1583), (1266, 1553, 1280, 1585), (1250, 1553, 1264, 1585), (1282, 1553, 1296, 1585), (1298, 1553, 1314, 1581), (222, 735, 250, 751), (217, 922, 249, 936), (199, 400, 215, 428), (30, 513, 58, 529), (33, 830, 62, 846), (148, 1033, 176, 1049), (183, 1091, 215, 1105), (187, 1017, 215, 1033), (183, 832, 212, 848), (458, 175, 473, 206), (139, 591, 171, 605), (480, 855, 511, 869), (102, 998, 134, 1012), (1273, 1370, 1289, 1398), (1654, 1384, 1670, 1412), (1730, 85, 1758, 100), (1587, 370, 1615, 386), (1241, 333, 1273, 347), (1344, 231, 1358, 263), (1567, 1428, 1583, 1456), (1347, 696, 1359, 732), (215, 961, 250, 973), (1344, 261, 1356, 296), (873, 1151, 887, 1181), (1490, 1550, 1504, 1580), (1553, 1548, 1567, 1578), (1569, 850, 1583, 880), (1493, 844, 1507, 874), (190, 737, 220, 751), (215, 887, 245, 901), (220, 943, 250, 957), (152, 439, 166, 469), (167, 439, 182, 469), (185, 437, 199, 467), (183, 941, 213, 955), (183, 903, 213, 917), (176, 795, 206, 809), (480, 964, 510, 978), (582, 457, 596, 487), (32, 1061, 62, 1075), (1728, 48, 1758, 62), (1409, 379, 1423, 409), (1185, 395, 1215, 409), (102, 441, 118, 467), (256, 1093, 282, 1109), (480, 703, 506, 719), (1275, 287, 1301, 303), (1567, 1398, 1583, 1424), (460, 129, 473, 162), (1065, 1518, 1079, 1546), (1012, 1525, 1026, 1553), (1120, 1523, 1134, 1551), (215, 850, 243, 864), (136, 439, 150, 467), (185, 400, 199, 428), (257, 668, 286, 682), (33, 851, 62, 866), (483, 612, 511, 626), (365, 760, 393, 774), (1185, 273, 1213, 287), (1010, 1491, 1023, 1523), (1386, 1551, 1398, 1583), (215, 869, 247, 881), (141, 1054, 173, 1067), (582, 428, 598, 453), (370, 444, 395, 460), (1409, 317, 1425, 342), (1100, 363, 1125, 379), (1100, 379, 1125, 395), (1275, 303, 1301, 317), (808, 384, 822, 411), (1010, 1553, 1023, 1583), (1317, 1555, 1329, 1585), (1567, 1460, 1583, 1483), (1047, 1372, 1060, 1400), (120, 439, 132, 467), (1656, 1431, 1670, 1456), (1349, 1555, 1361, 1581), (441, 1019, 467, 1031), (368, 427, 395, 439), (331, 1056, 358, 1068), (1393, 383, 1407, 405)
